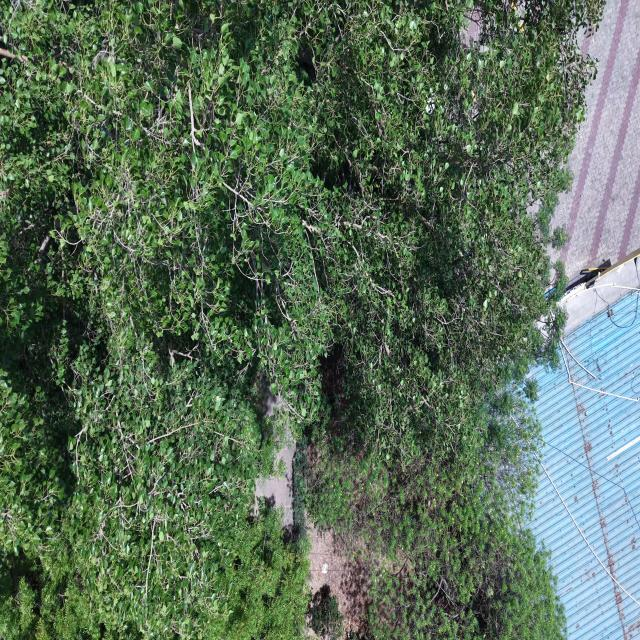DRY_AREA: (548, 0, 639, 279), (550, 0, 639, 277), (307, 524, 411, 634), (307, 520, 370, 632), (308, 524, 371, 632), (255, 430, 295, 529), (255, 435, 295, 528)
ROOFTOP_BUILDING: (530, 261, 639, 639)
VEGETATION_TREE: (0, 0, 601, 639), (309, 585, 342, 639)
